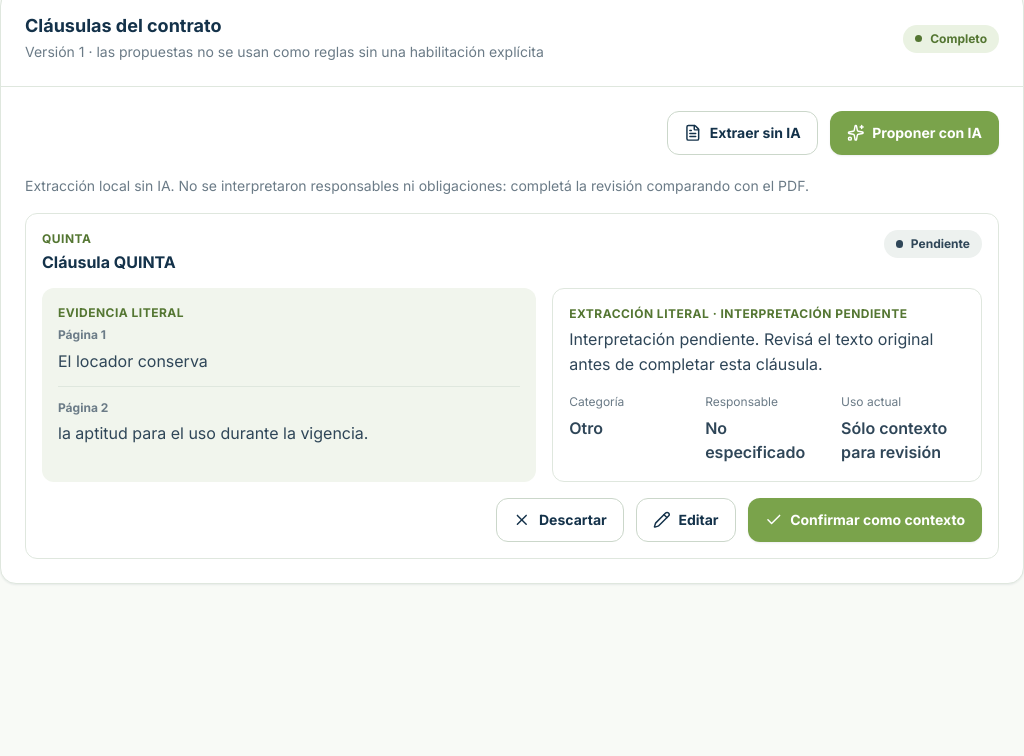
Scenario: extracción asistida y respaldo literal › abre el editor literal vacío y exige completar el resumen
Click the button "Editar".
click(686, 520)  # box [636,498,736,542]
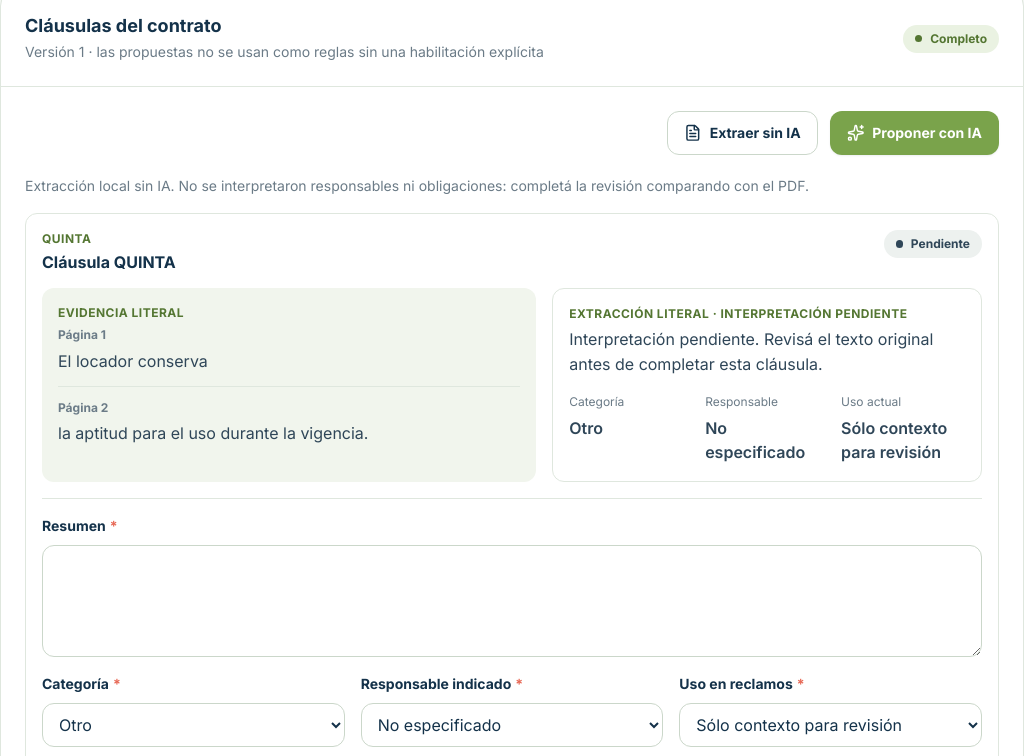
Check: the text box labelled "Resumen*" is empty
Check: the dropdown labelled "Uso en reclamos*" shows "Sólo contexto para revisión", box [679,702,982,746]
Type "El locador conserva la aptitud para el uso durante la vigencia." into the text box labelled "Resumen*".
click(512, 601); type("El locador conserva la aptitud para el uso durante la vigencia.")  # box [42,545,982,657]
(page scrolled)
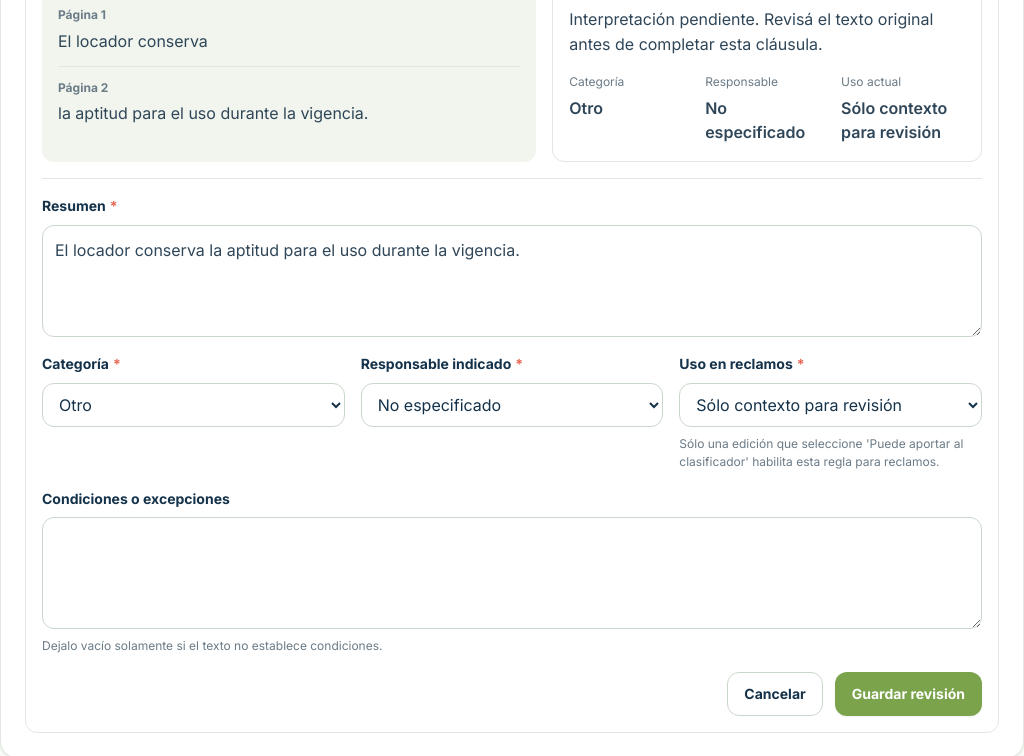
Click the button "Guardar revisión".
click(908, 694)  # box [835,672,982,716]
(page scrolled)
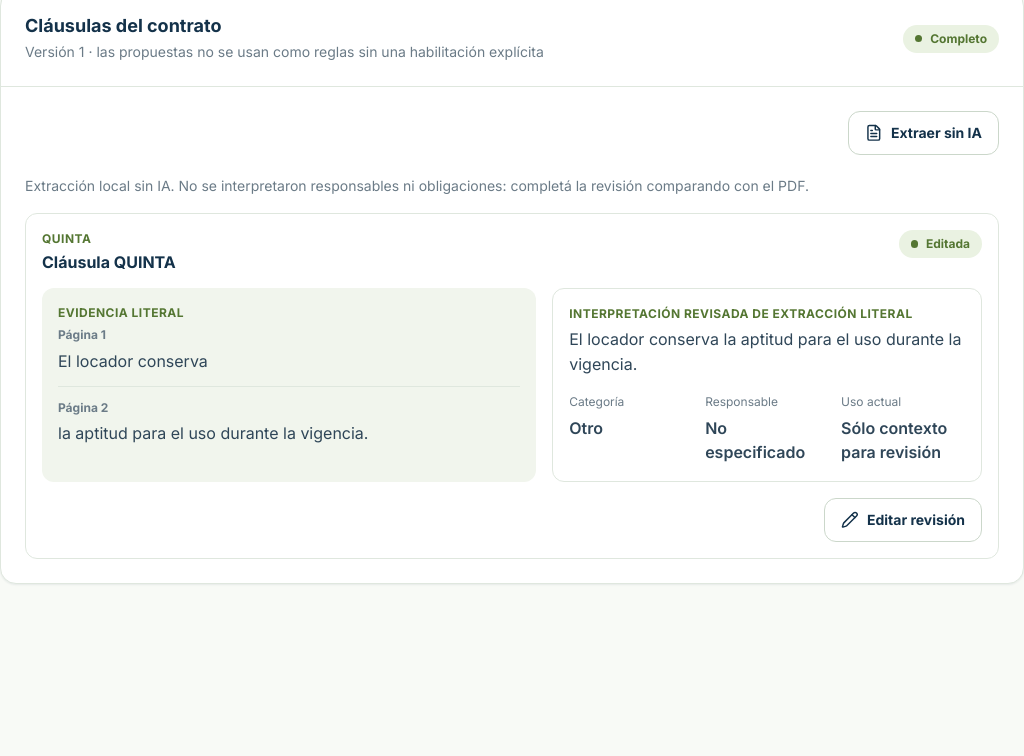
Check: the text "Interpretación revisada de extracción literal" is shown, box [569,305,965,323]
